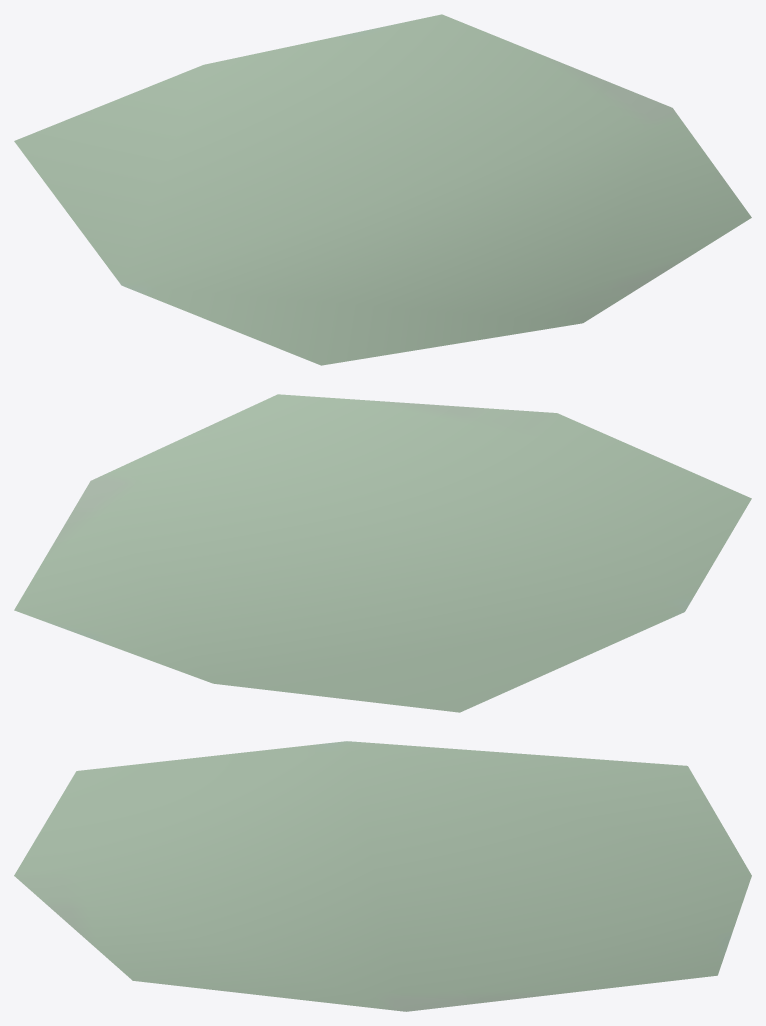
The model's file is TROLLHOLE02_HOLECAP54.fbx.
3 views of the same model, one above another, from view 1: azimuth 30°, elevation 25°; view 2: azimuth 150°, elevation 25°; view 3: azimuth 270°, elevation 25° (orthographic). The views are drawn at different scales.
Visible parts, largest first — view 1: TROLLHOLE02_HOLECAP54; view 2: TROLLHOLE02_HOLECAP54; view 3: TROLLHOLE02_HOLECAP54.
Boxes of the visible parts, x1,y1,x2,y2 form: TROLLHOLE02_HOLECAP54: [14, 14, 751, 365]; TROLLHOLE02_HOLECAP54: [14, 394, 751, 712]; TROLLHOLE02_HOLECAP54: [14, 741, 751, 1011].
Size of the model in its own units: 23104 by 676 by 25251.
1 material, 1 textured.
